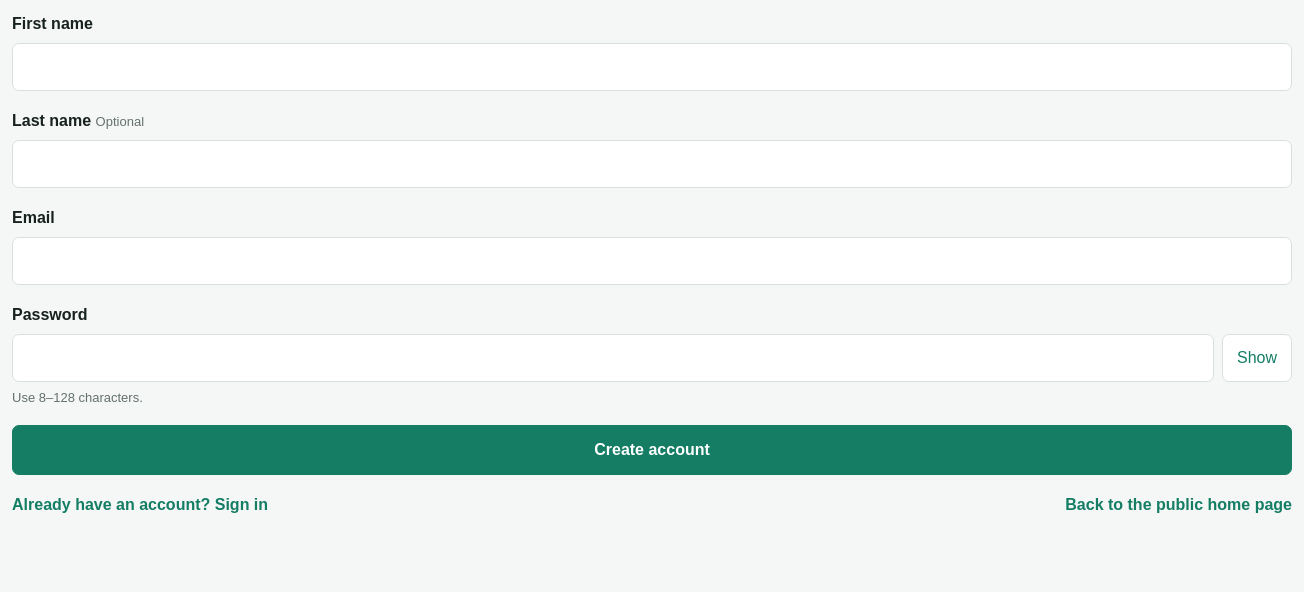
Test: RegistrationForm › shows a clear duplicate-email state
Type "Meiir" into the field labelled "First name". click: (652, 67)
box: [12,43,1292,91]
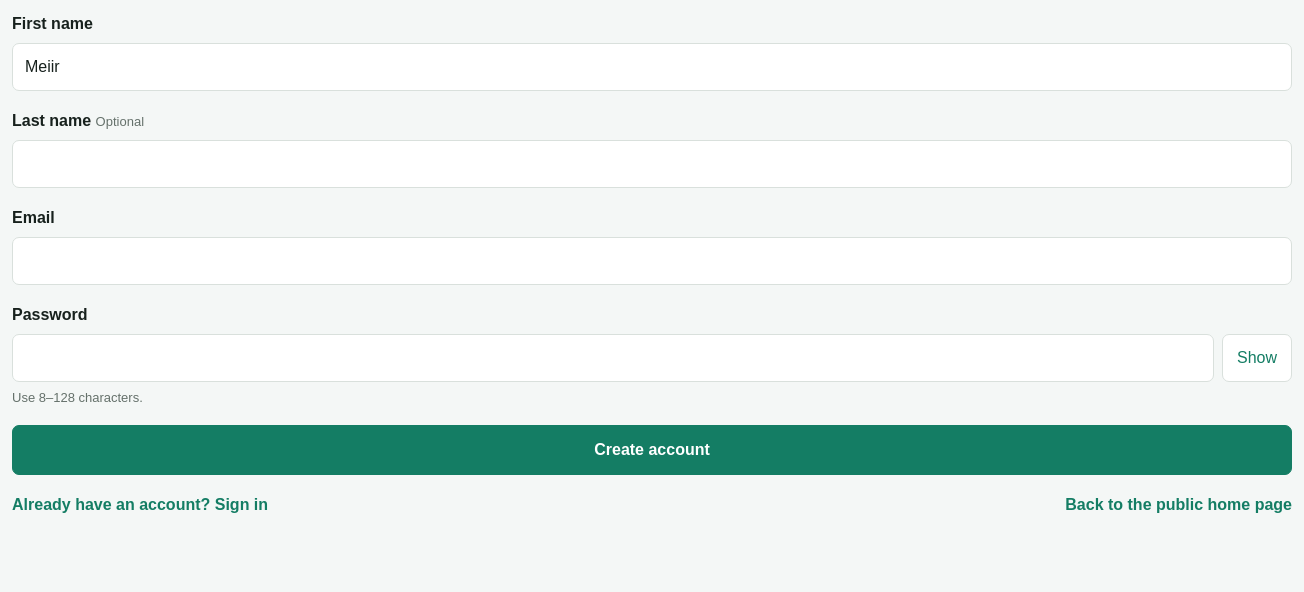
Type "Orazalin" into the field labelled "Last name Optional". click: (652, 164)
box: [12,140,1292,188]
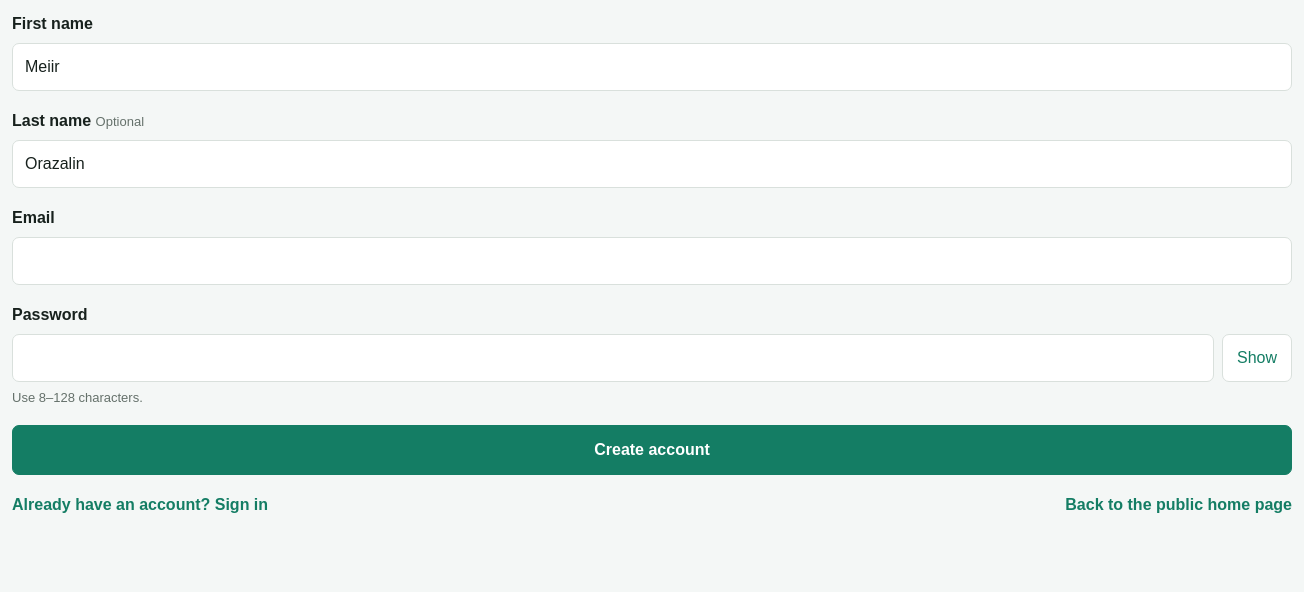
Type "meiir@example.com" into the field labelled "Email". click: (652, 261)
box: [12,237,1292,285]
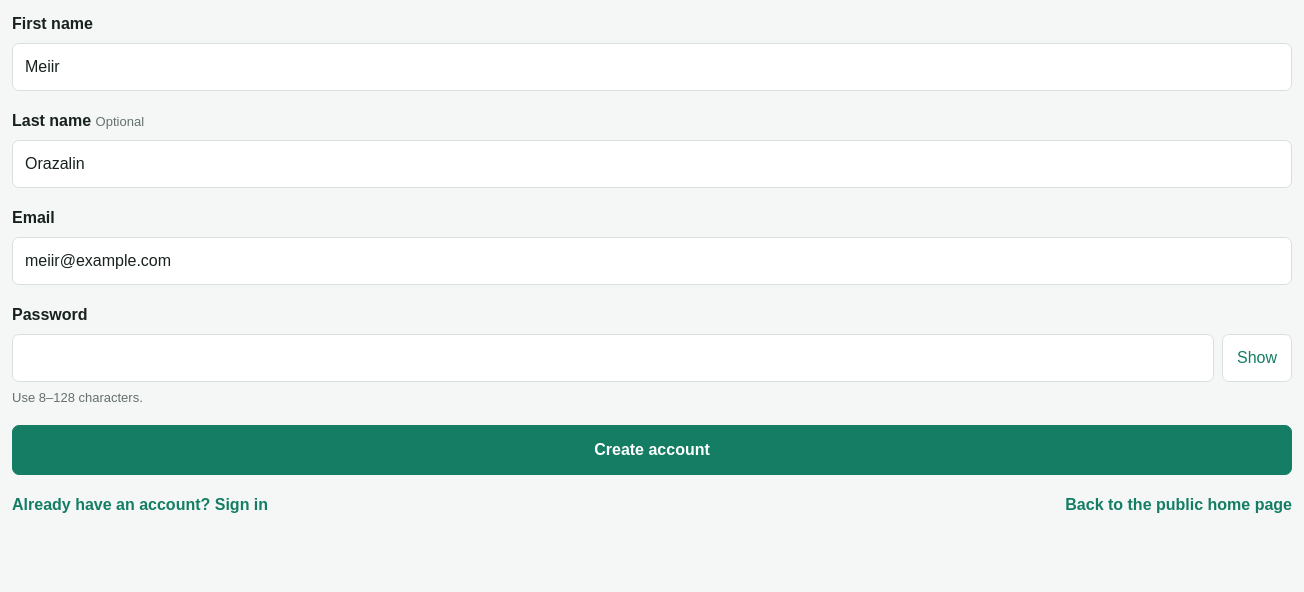
Type "example-password" into the password field labelled "Password". click: (613, 358)
box: [12,334,1214,382]
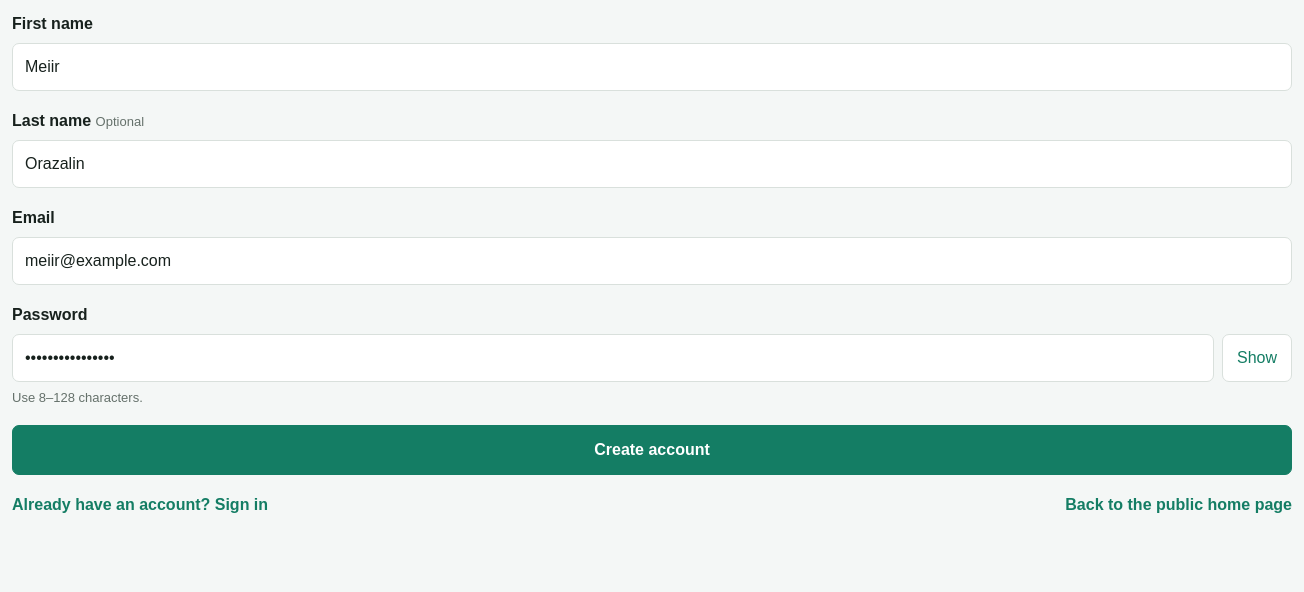
Click the button "Create account". click: (652, 450)
box: [12,425,1292,475]
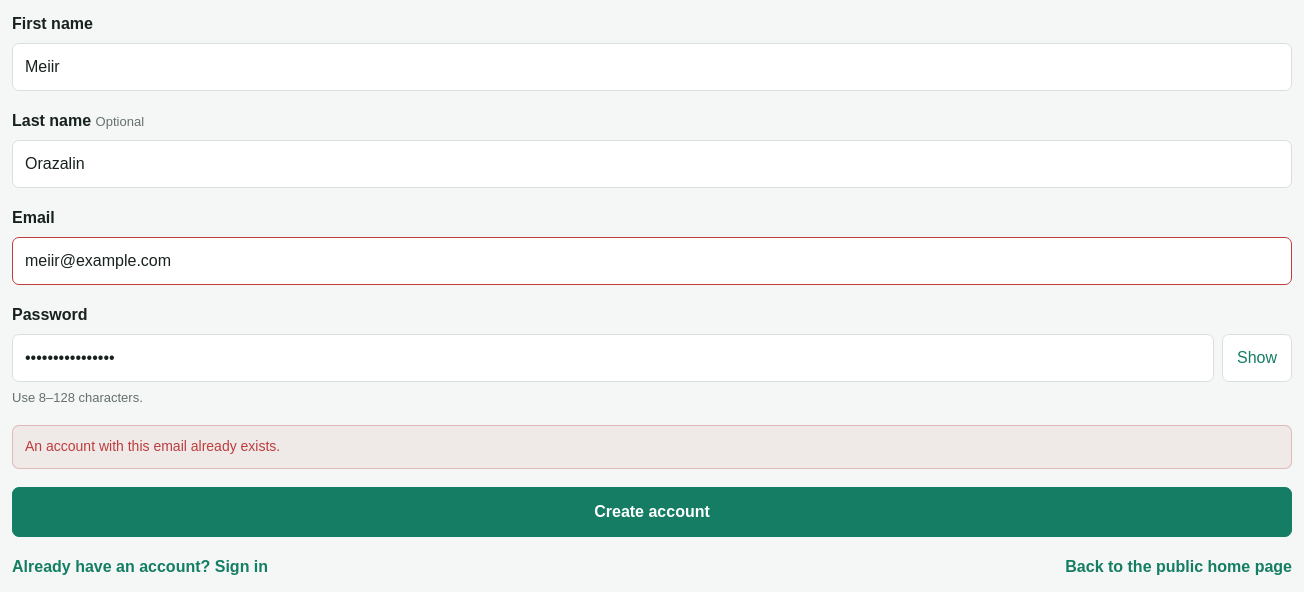
Now the text "An account with this email already exists." is shown, box [12,425,1292,469]
